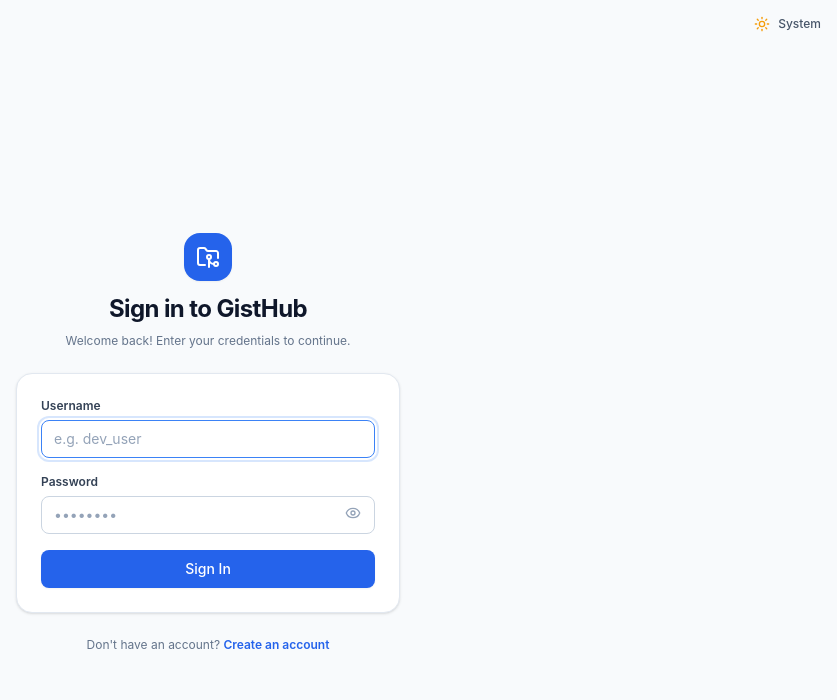
Test: GistHub Authentication Workflow › displays user-friendly error message on login failure
Type "baduser" into the field labelled "Username" at (208, 439), box [41, 420, 375, 458]
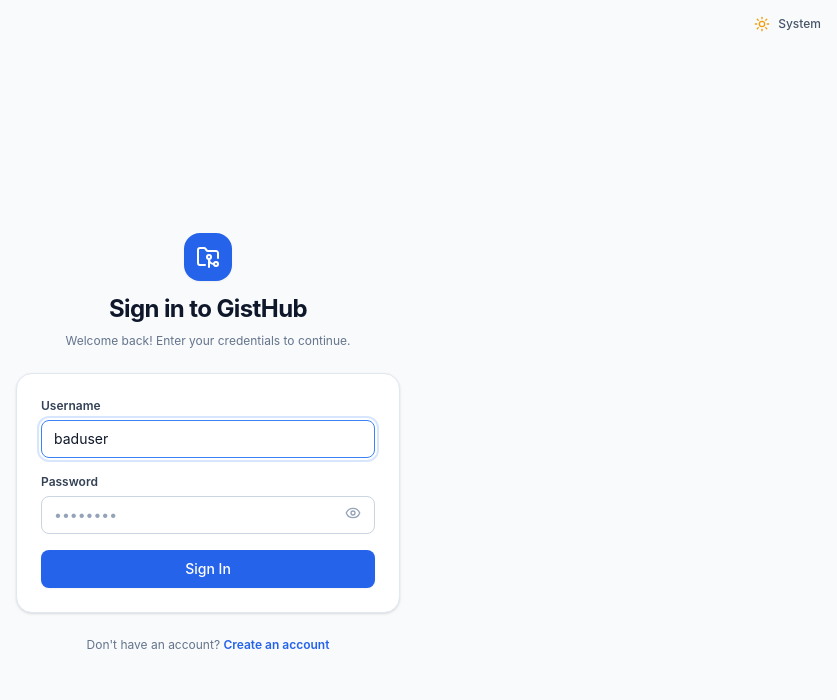
Type "wrongpassword" into the password field with placeholder "••••••••" at (208, 515), box [41, 496, 375, 534]
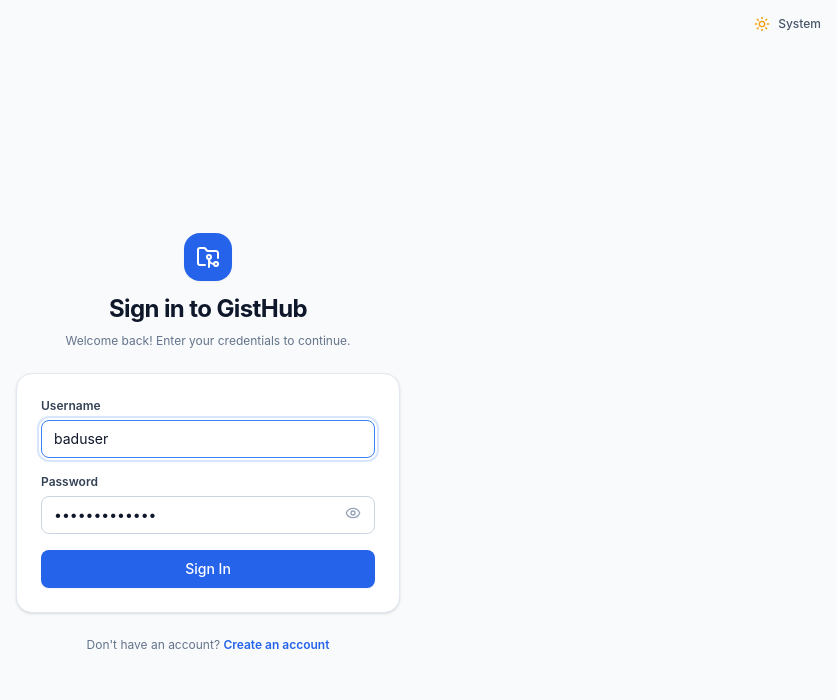
Click the button "Sign In" at (208, 569), box [41, 550, 375, 588]
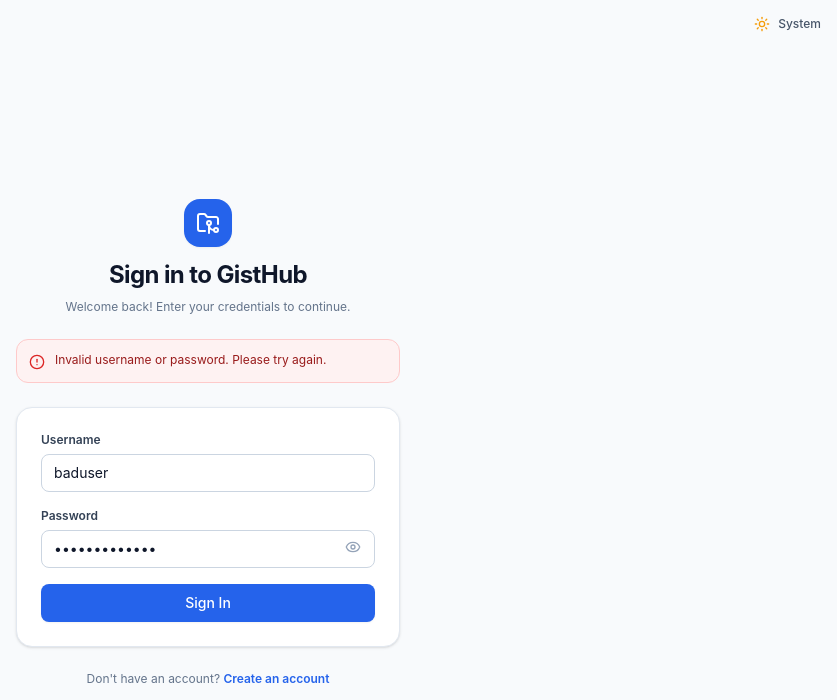
Now the text "Invalid username or password. Please try again." is shown, box [55, 352, 326, 368]
